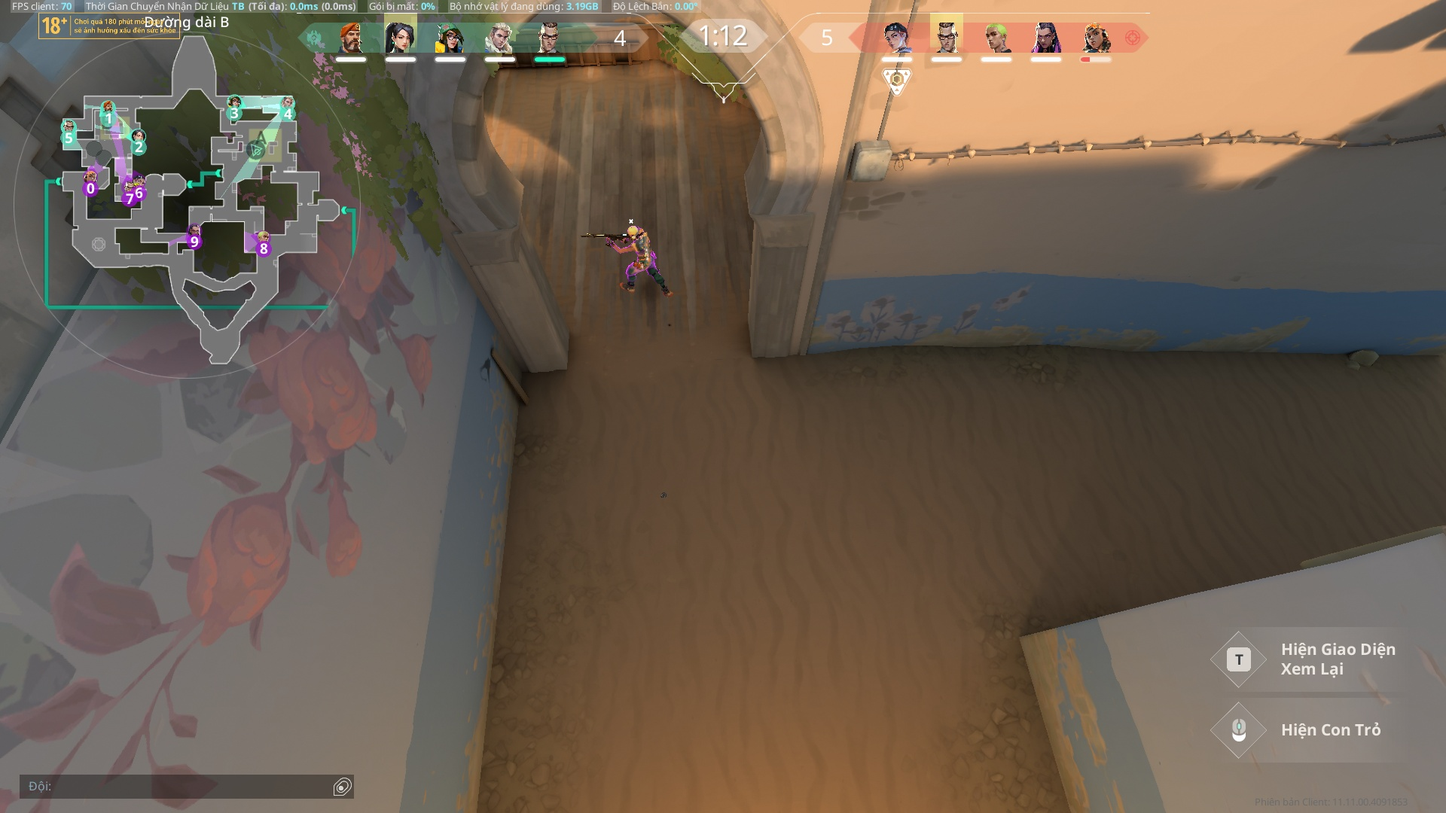body: (633, 235, 654, 259)
head: (627, 227, 642, 239)
